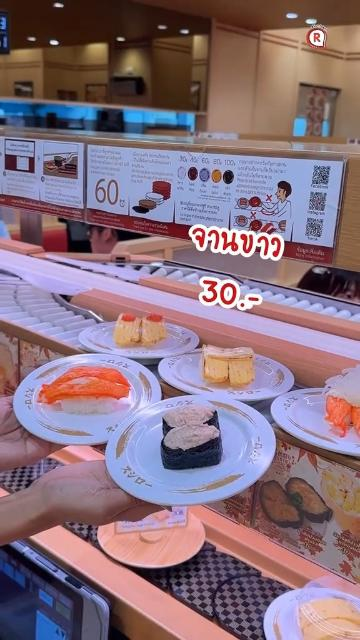janwhite: (215, 393, 279, 484), (12, 402, 129, 446), (106, 420, 167, 487), (275, 388, 333, 450), (127, 354, 159, 419), (264, 596, 307, 640), (257, 352, 295, 399), (164, 356, 204, 394), (168, 322, 197, 363), (85, 322, 115, 358)
